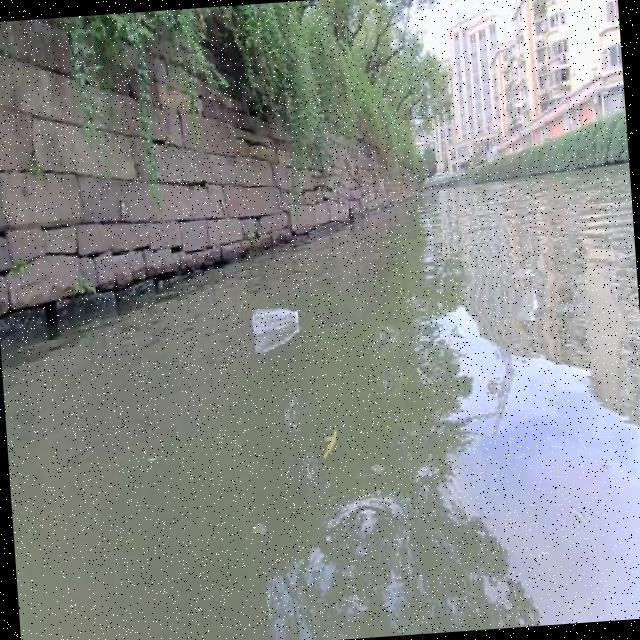Bottle: (246, 302, 306, 342)
